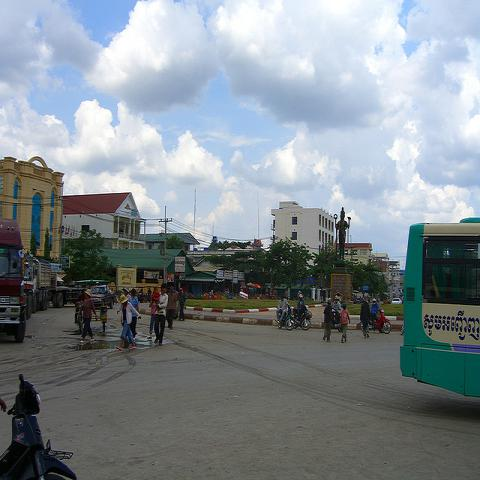bus: (400, 218, 479, 400)
motorcycle: (2, 374, 80, 474), (274, 304, 296, 330), (374, 307, 392, 334), (295, 306, 309, 329), (400, 322, 404, 336)
truck: (0, 218, 27, 344), (22, 252, 61, 323), (90, 285, 119, 309)
